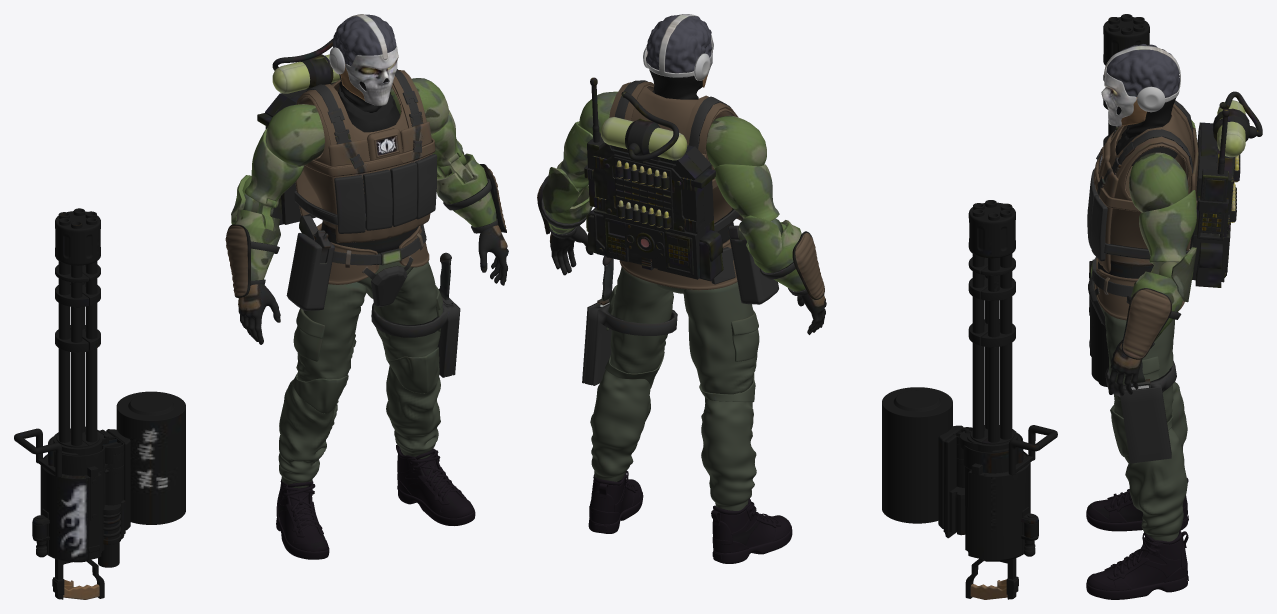
File: gi_joe.glb
3 views of the same model, side by side, from view 1: azimuth 30°, elevation 25°; view 2: azimuth 150°, elevation 25°; view 3: azimuth 270°, elevation 25° (orthographic). The views are drawn at different scales.
Parts seen in each view (by area): view 1: 15560402591_GIJoe.001; view 2: 15560402591_GIJoe.001; view 3: 15560402591_GIJoe.001.
Boxes of the visible parts, x1=… form: 15560402591_GIJoe.001: x1=14, y1=14, x2=508, y2=599; 15560402591_GIJoe.001: x1=537, y1=14, x2=1057, y2=599; 15560402591_GIJoe.001: x1=1086, y1=14, x2=1262, y2=599.
Size of the model in its own units: 0.1528 by 0.1524 by 0.0476.
Materials: 1 (1 with a texture image).
